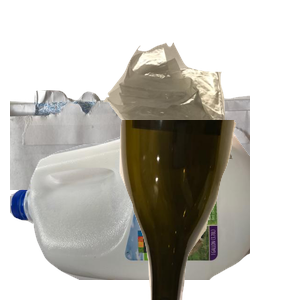glass: (117, 120, 300, 300)
paper: (10, 84, 250, 264)
plastic: (10, 120, 250, 300)
trash: (101, 40, 300, 192)
